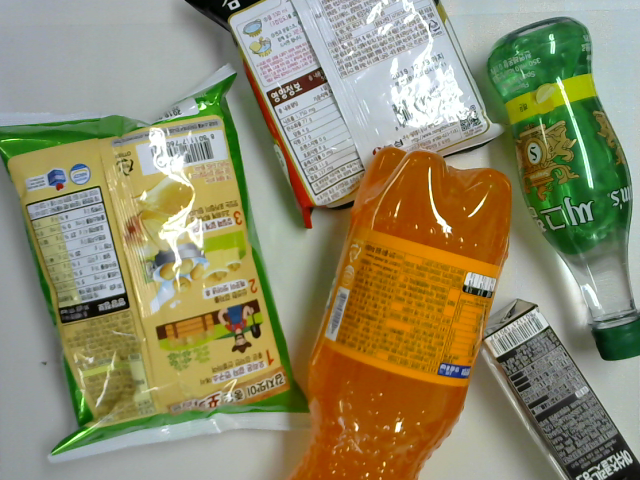Hush_Choco_Drink: (476, 296, 640, 480)
Hwanta_Orange_1.5L: (290, 146, 514, 480)
Pocachip_Onion: (1, 61, 313, 463)
Potato: (182, 1, 510, 229)
Seagram_Lemon_Carbonated_Water: (486, 15, 640, 362)
